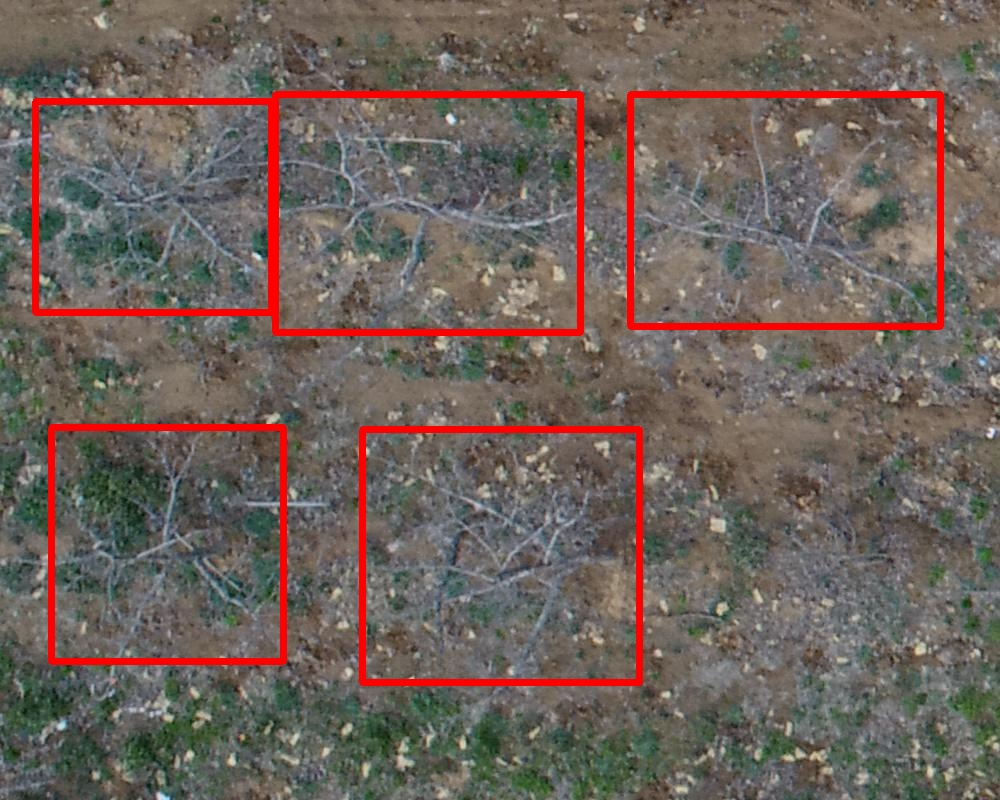apple: (275, 94, 580, 332), (630, 94, 940, 326), (362, 429, 639, 682), (51, 427, 283, 661), (35, 101, 271, 312)
